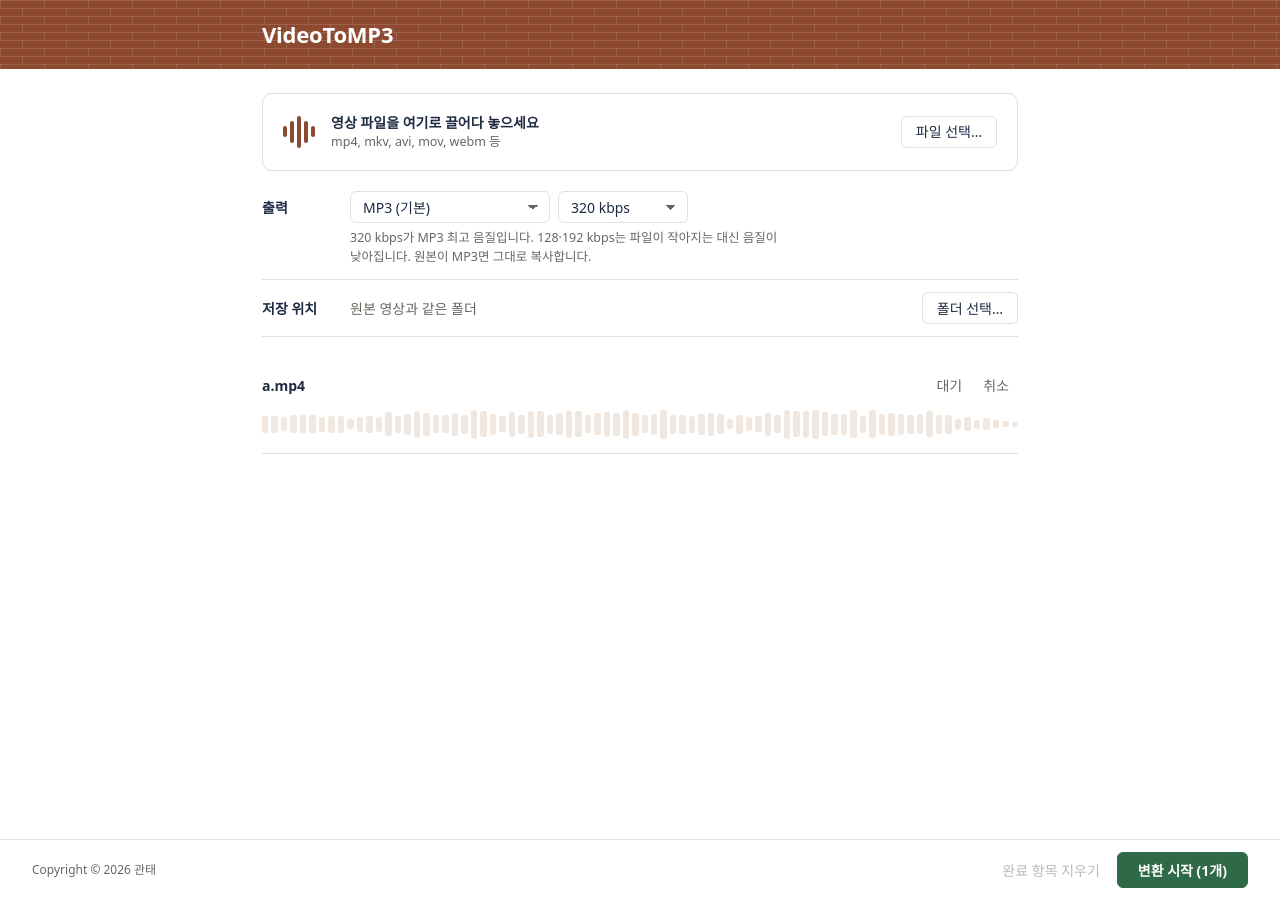
Test: 변환 › 파형: 50%면 40개를 채우고 경계 근처 막대만 뛴다
Step 1. Click the button "변환 시작 (1개)" → (1182, 870), box x1=1117 y1=852 x2=1248 y2=888
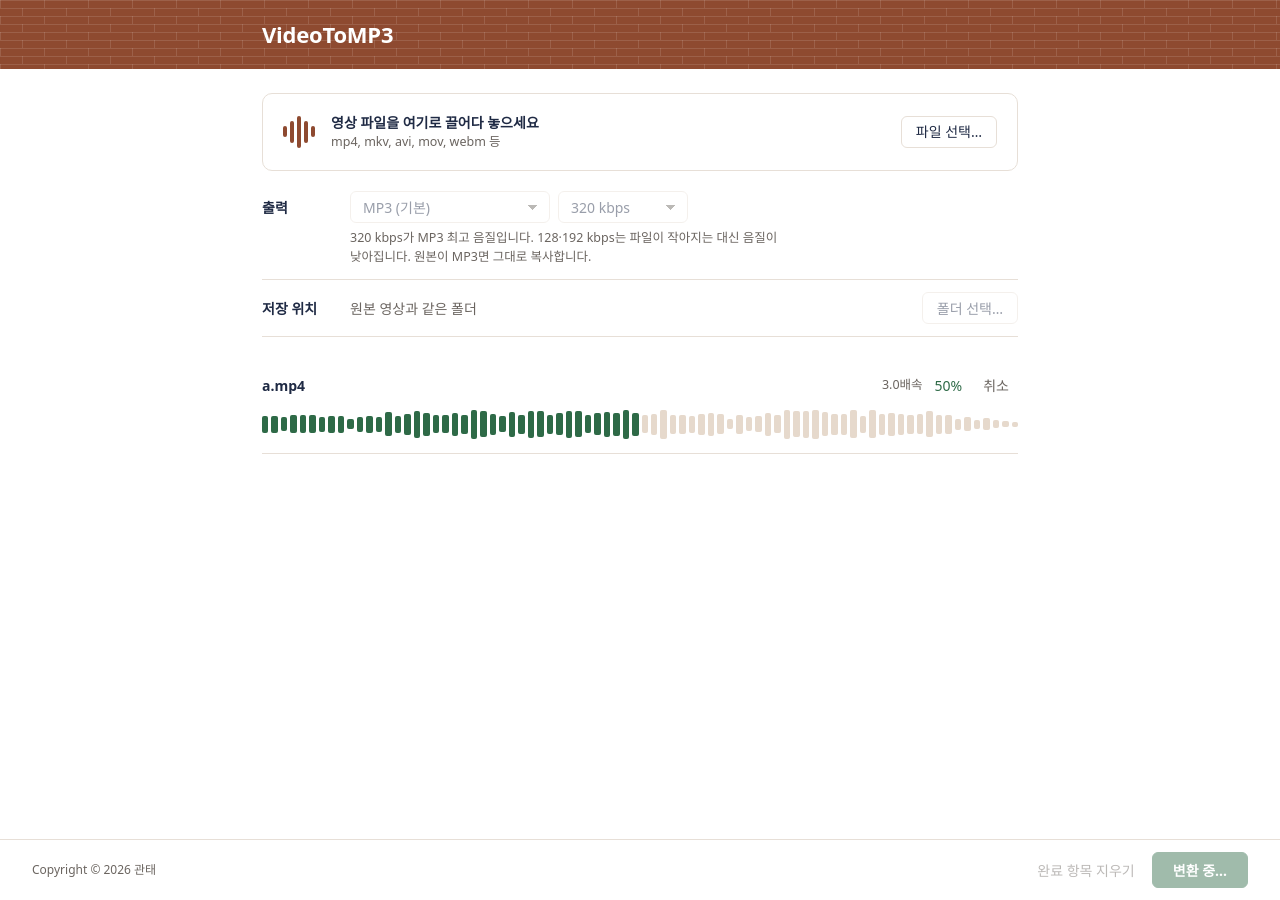
Check: the element with class "wave" has class "wave wave-converting", box x1=262 y1=409 x2=1018 y2=439
